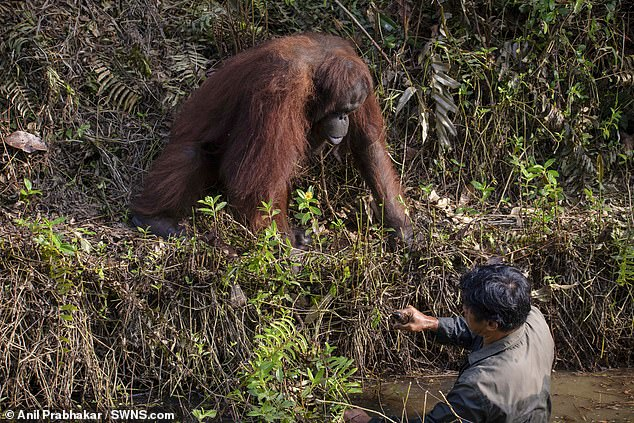Orangutan: (157, 37, 414, 247)
